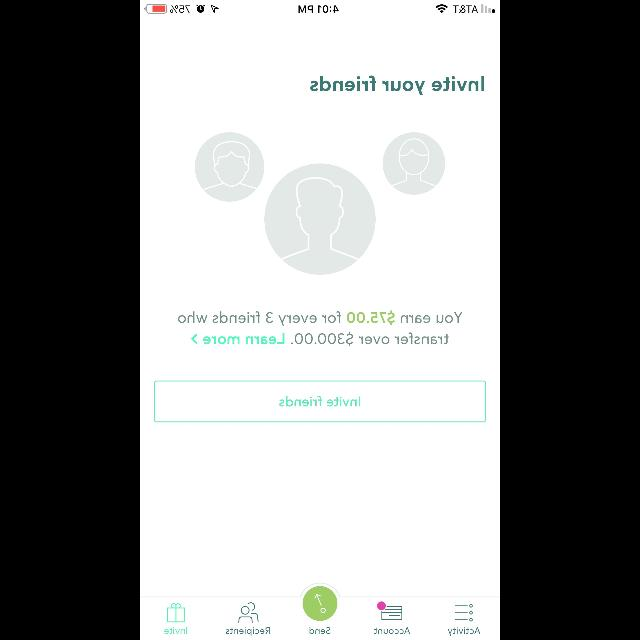icon: (302, 586, 338, 622), (378, 602, 402, 620), (238, 603, 258, 623), (168, 604, 185, 622), (456, 604, 472, 622), (191, 334, 197, 344)
image: (194, 132, 446, 274)
text: (178, 311, 462, 347), (310, 76, 484, 96), (226, 628, 270, 636), (448, 626, 480, 636), (374, 626, 410, 634), (310, 626, 330, 634), (165, 628, 188, 634)
textbutton: (154, 380, 486, 422)
uppertaskbar: (140, 0, 500, 14)
